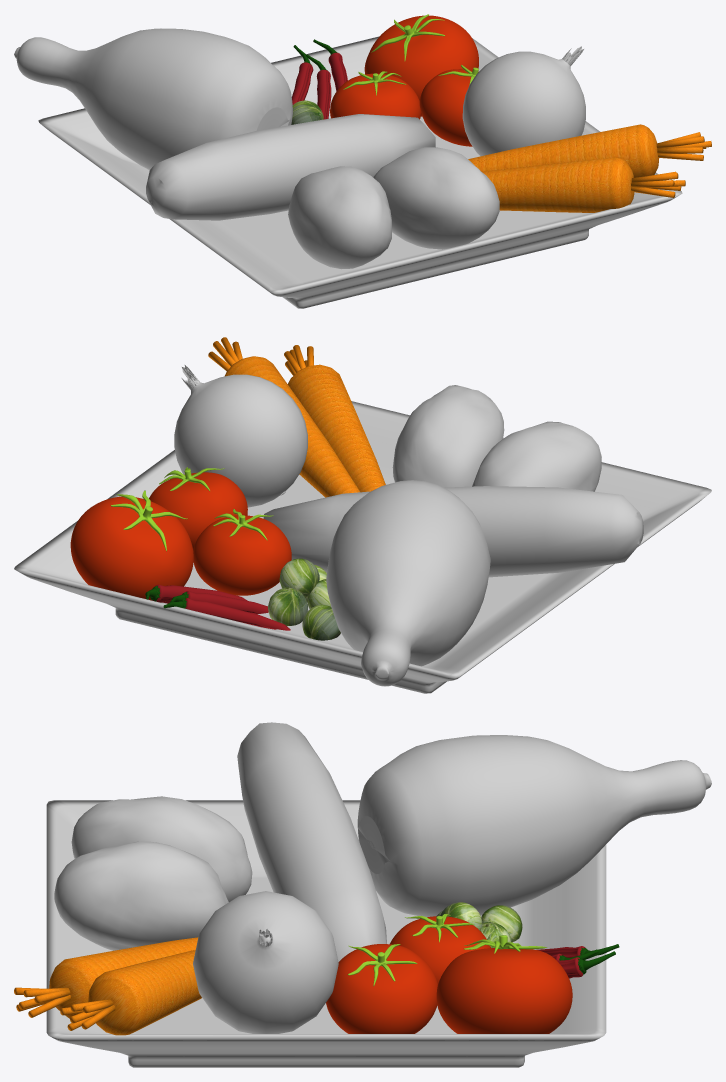
Rendered from vegetable.fbx.
3 views of the same model, one above another, from view 1: azimuth 30°, elevation 25°; view 2: azimuth 150°, elevation 25°; view 3: azimuth 270°, elevation 25° (orthographic). The views are drawn at different scales.
Visible parts, largest first — view 1: Plate, Butternut_Squash, Corn, onion, Potato2, Potato, Carrot_001, Tomato_002, Carrot, Tomato, Tomato_001, stem (+6 smaller); view 2: Plate, Butternut_Squash, Corn, onion, Tomato_002, Potato2, Potato, Tomato, Carrot_001, Tomato_001, Carrot, brussell_sprouts (+8 smaller); view 3: Butternut_Squash, Plate, Corn, onion, Potato2, Tomato_002, Potato, Tomato_001, Carrot, Carrot_001, Tomato, stem_001 (+4 smaller).
Part boxes in pixels (<box>): Plate: <box>38,36,682,308</box>; Butternut_Squash: <box>14,28,293,169</box>; Corn: <box>146,114,435,220</box>; onion: <box>462,46,585,156</box>; Potato2: <box>373,147,499,249</box>; Potato: <box>288,166,391,269</box>; Carrot_001: <box>482,157,634,212</box>; Tomato_002: <box>364,15,478,116</box>; Carrot: <box>468,124,659,177</box>; Tomato: <box>330,73,420,119</box>; Tomato_001: <box>419,69,478,146</box>; stem: <box>656,132,711,160</box>; Plate: <box>14,401,711,693</box>; Butternut_Squash: <box>326,480,490,686</box>; Corn: <box>263,486,643,577</box>; onion: <box>174,365,307,507</box>; Tomato_002: <box>70,496,193,600</box>; Potato2: <box>392,385,504,487</box>; Potato: <box>472,421,601,491</box>; Tomato: <box>193,515,291,595</box>; Carrot_001: <box>288,364,385,492</box>; Tomato_001: <box>149,472,247,550</box>; Carrot: <box>224,356,359,497</box>; brussell_sprouts: <box>268,587,307,625</box>; Butternut_Squash: <box>357,735,711,917</box>; Plate: <box>46,800,606,1067</box>; Corn: <box>237,722,386,961</box>; onion: <box>193,891,338,1033</box>; Potato2: <box>54,841,228,950</box>; Tomato_002: <box>436,948,572,1033</box>; Potato: <box>71,796,252,901</box>; Tomato_001: <box>326,944,437,1033</box>; Carrot: <box>88,950,201,1035</box>; Carrot_001: <box>49,937,198,1018</box>; Tomato: <box>390,916,490,983</box>; stem_001: <box>14,987,70,1017</box>.
Size of the model in its own units: 2.56 by 0.7986 by 2.75.
